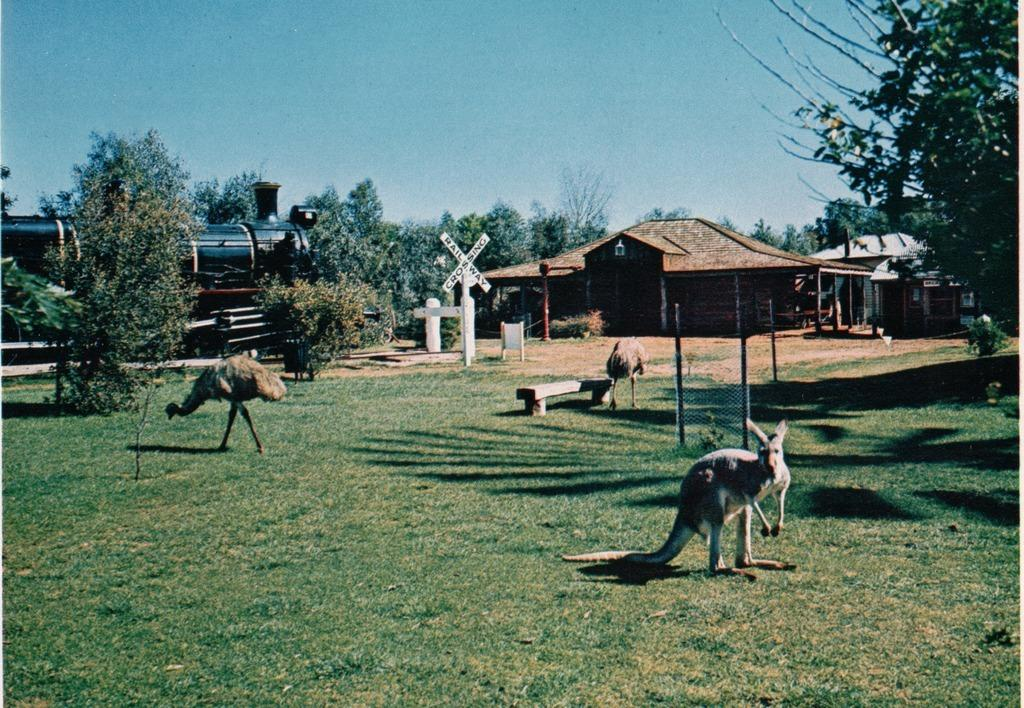kangaroo: (559, 416, 792, 583)
